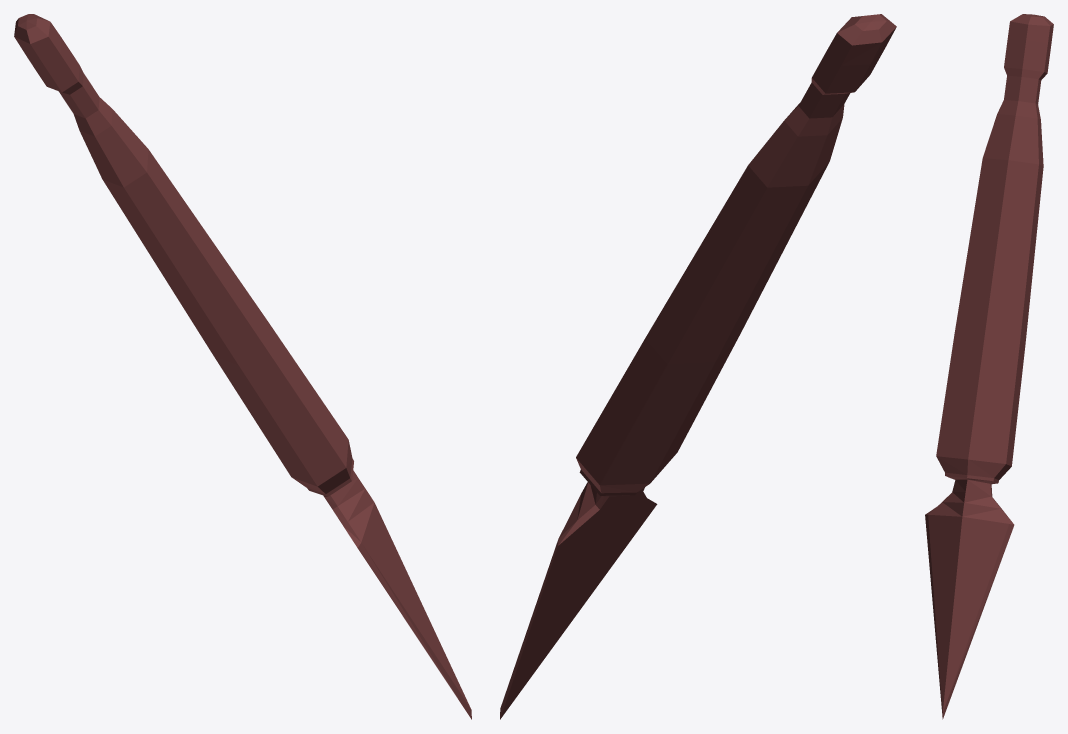
File: BisturiV2.fbx
3 views of the same model, side by side, from view 1: azimuth 30°, elevation 25°; view 2: azimuth 150°, elevation 25°; view 3: azimuth 270°, elevation 25° (orthographic). The views are drawn at different scales.
Visible parts, largest first — view 1: Scapel; view 2: Scapel; view 3: Scapel.
Boxes of the visible parts, left/top/right/bottom form: Scapel: left=14, top=14, right=471, bottom=719; Scapel: left=500, top=14, right=896, bottom=719; Scapel: left=925, top=14, right=1053, bottom=719.
Bounding box in the file's own units: 8.09 × 14.65 × 3.03.
